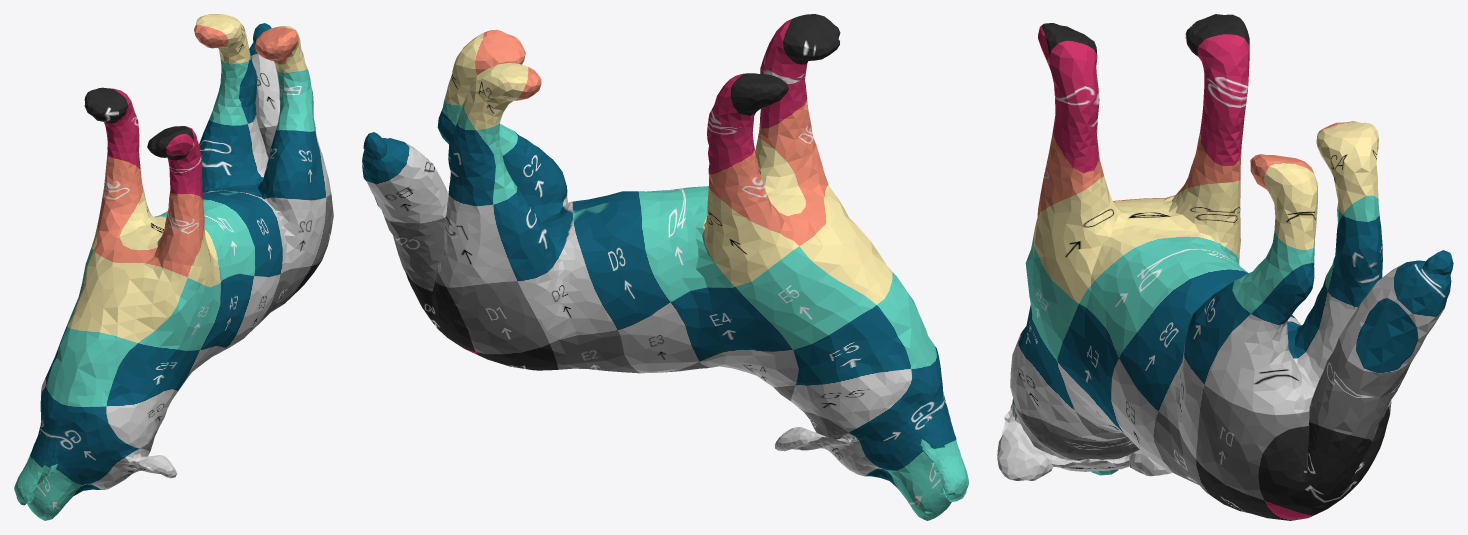
Rendered from horse_08-wolf_03.obj.
The picture shows the model from 3 angles, left to right: view 1: azimuth 30°, elevation 25°; view 2: azimuth 150°, elevation 25°; view 3: azimuth 270°, elevation 25°; orthographic projection. The views are drawn at different scales.
Visible parts, largest first — view 1: horse_08-wolf_03_export; view 2: horse_08-wolf_03_export; view 3: horse_08-wolf_03_export.
Part boxes in pixels (box(x1,y1,x2,y2)): horse_08-wolf_03_export: box(14, 14, 333, 520); horse_08-wolf_03_export: box(362, 14, 968, 520); horse_08-wolf_03_export: box(997, 14, 1453, 520).
Bounding box in the file's own units: 0.7472 × 0.7014 × 0.551.
